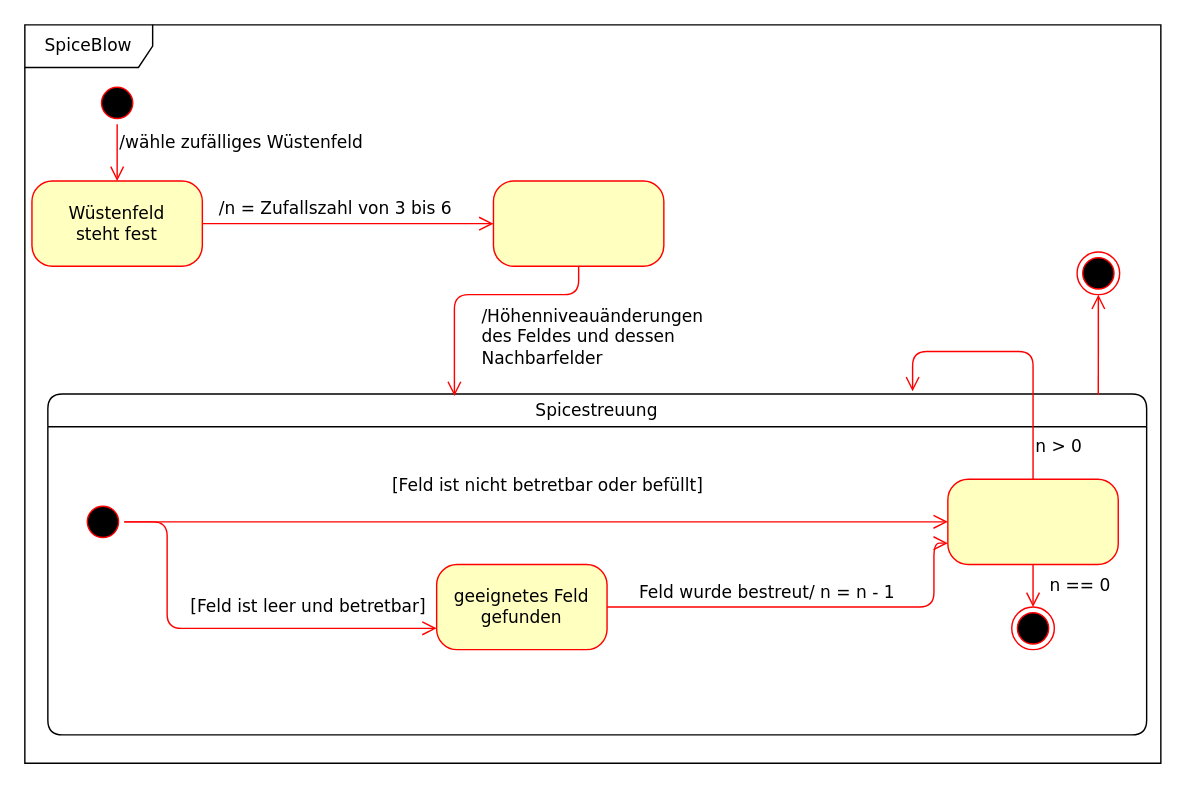
Image size: 1186x788. Some labels were removed from this diagram. Here are the shapes that lost their labels. From the top down, the box of each, then its label:
(492, 180, 664, 266): n steht fest
(946, 478, 1118, 564): Wähle zufälliges Nachbarfeld
